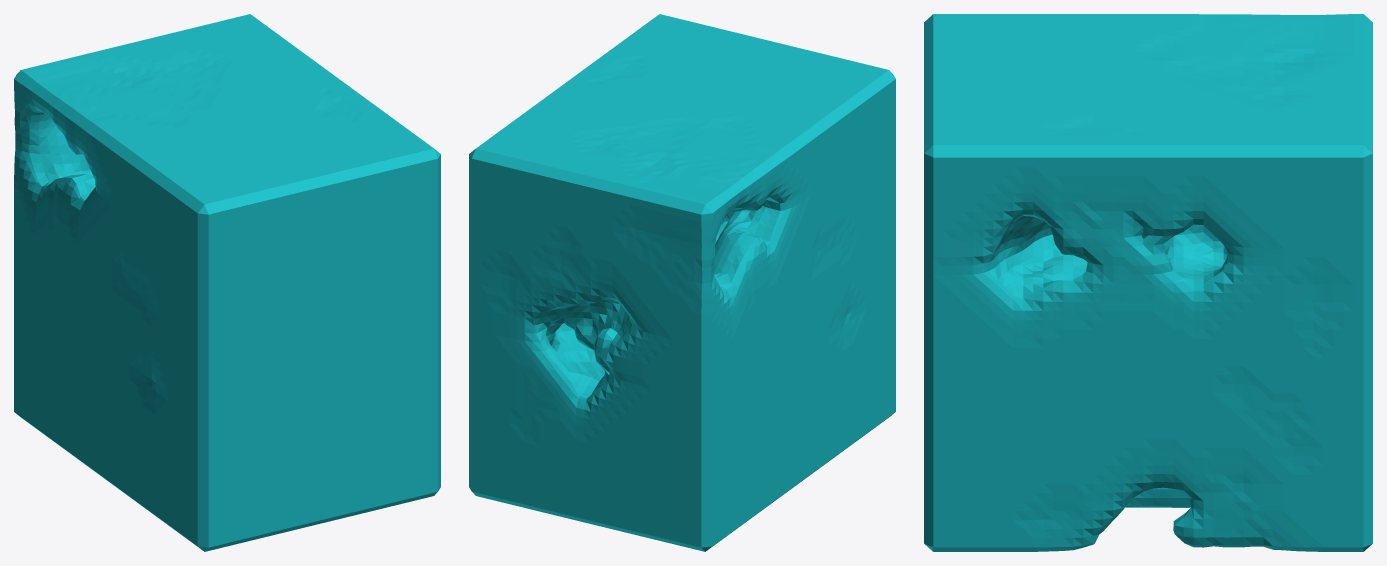
3 views of the same model, side by side, from view 1: azimuth 30°, elevation 25°; view 2: azimuth 150°, elevation 25°; view 3: azimuth 270°, elevation 25° (orthographic). The views are drawn at different scales.
Parts seen in each view (by area): view 1: Liquid_Domain; view 2: Liquid_Domain; view 3: Liquid_Domain.
Part boxes in pixels (x1,y1,x2,y2): Liquid_Domain: (14, 14, 440, 551); Liquid_Domain: (469, 14, 895, 551); Liquid_Domain: (924, 14, 1372, 551).
Bounding box in the file's own units: 79.09 × 108 × 108.
